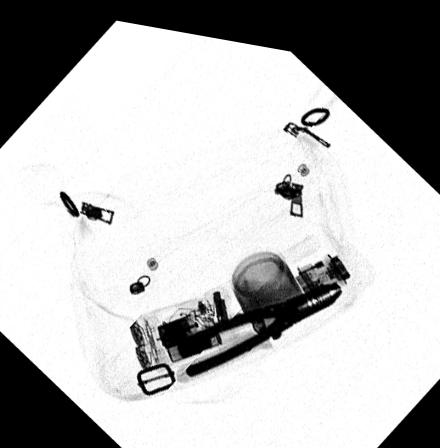Pliers: (174, 269, 343, 369)
